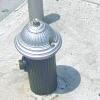a fire hydrant: (13, 18, 65, 96)
